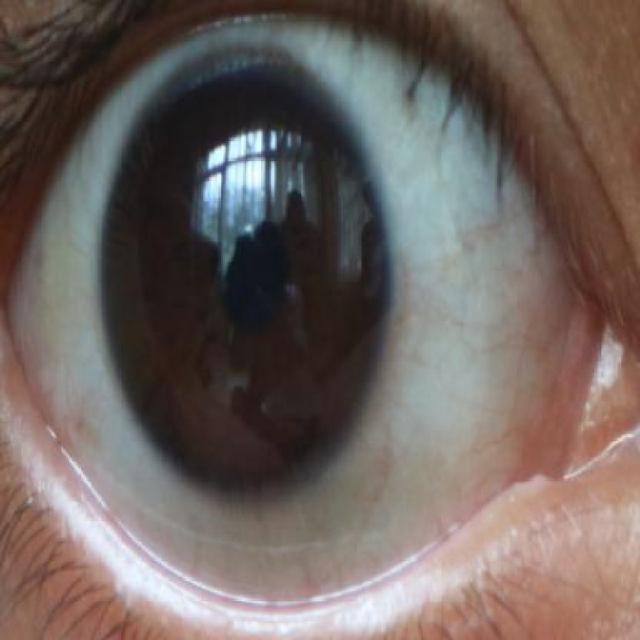Normal: (96, 50, 393, 502)
